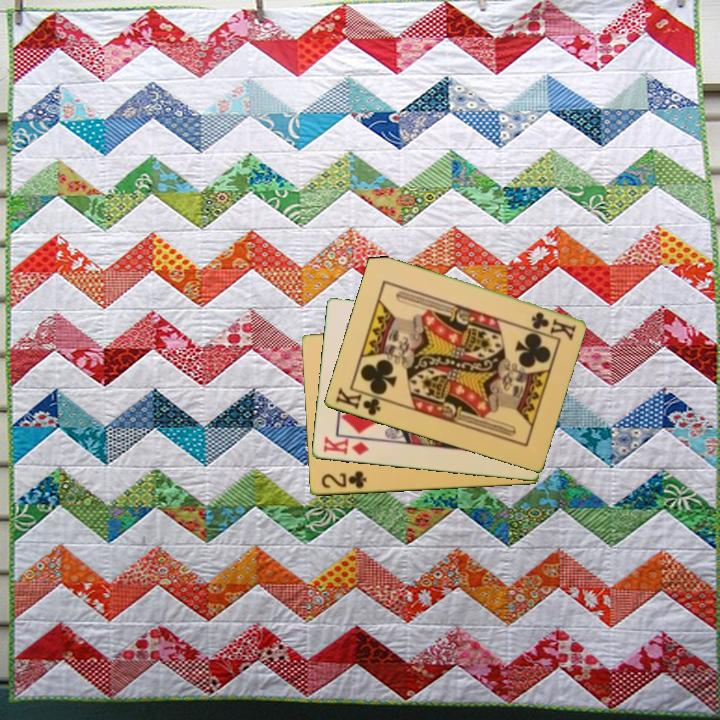2c: (317, 468, 369, 491)
Kc: (332, 384, 389, 419), (527, 308, 578, 341)
Kd: (319, 433, 372, 458)
